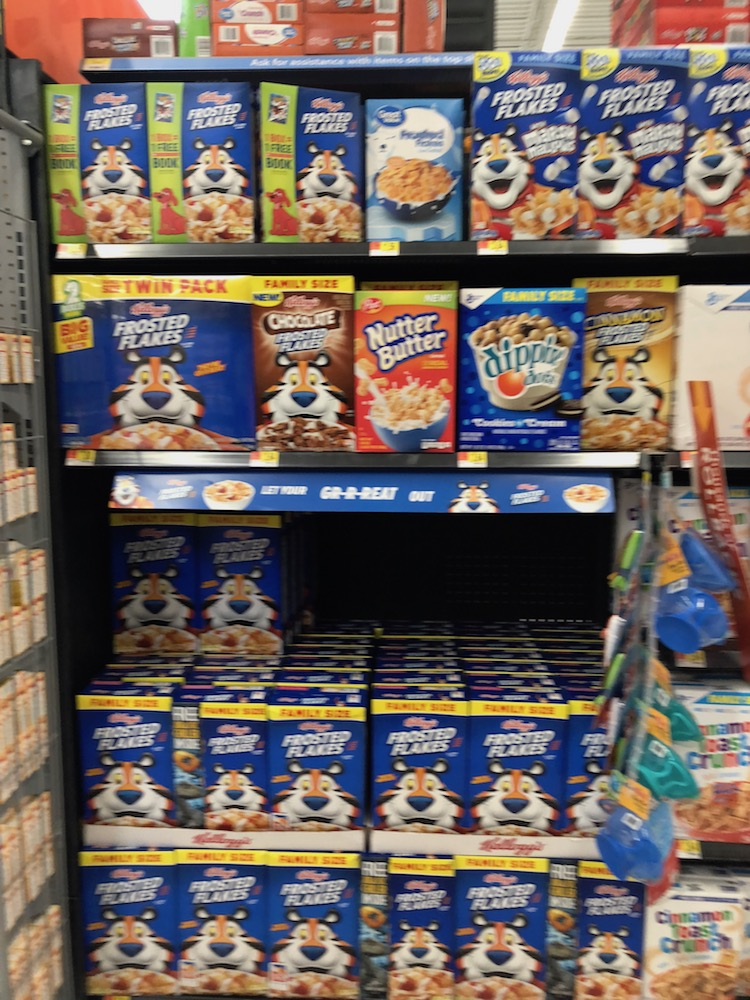Dippin Dots Cookies & Cream -568929378: (462, 271, 588, 457)
Nutter Butter-565717511: (357, 293, 474, 457)
